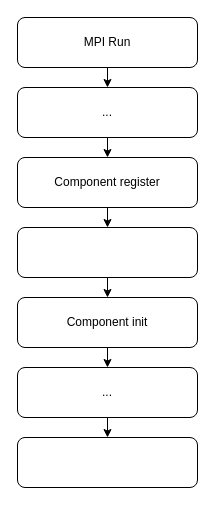
Some shapes in this 215 by 505 pixel diagram are drawn without their labels. Each missing label, with the centre of its shape:
"Component open" goes at (x=107, y=252).
"mca_btl_self_add_procs" goes at (x=107, y=462).
